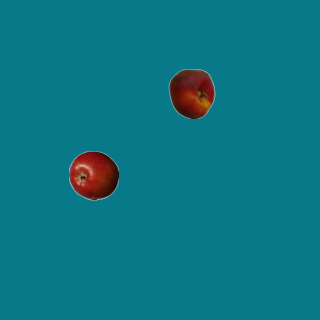Apple Braeburn: (68, 150, 118, 200)
Nectarine Flat: (166, 68, 216, 118)
